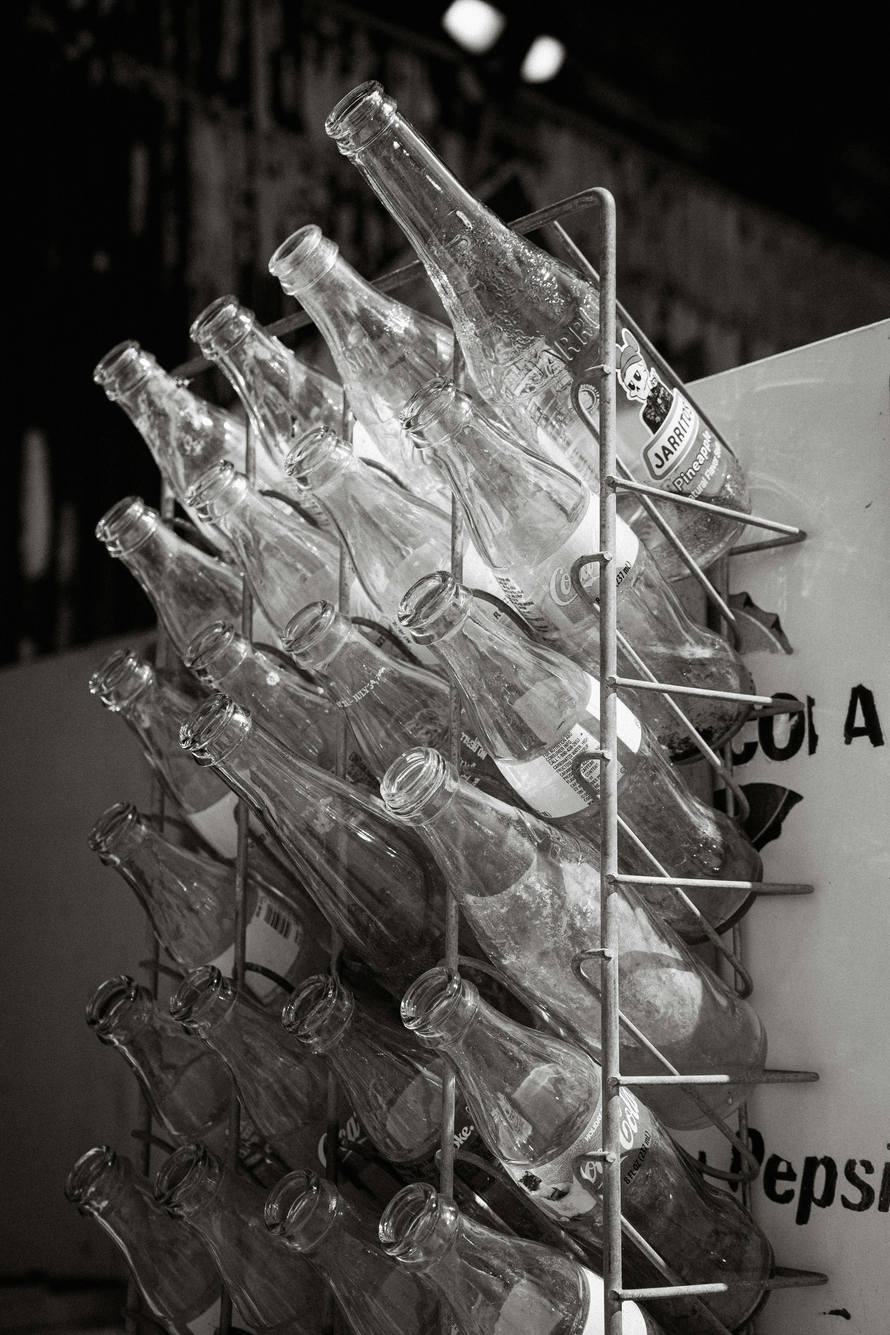Bottle-Detection: (313, 67, 783, 562), (352, 723, 817, 1126), (375, 562, 808, 937), (258, 216, 587, 569), (276, 963, 553, 1207), (348, 1140, 670, 1331), (74, 742, 313, 979), (76, 636, 297, 861), (62, 306, 274, 530), (180, 272, 380, 502), (71, 928, 272, 1151), (39, 1117, 244, 1335), (276, 592, 481, 778), (67, 465, 274, 643)
